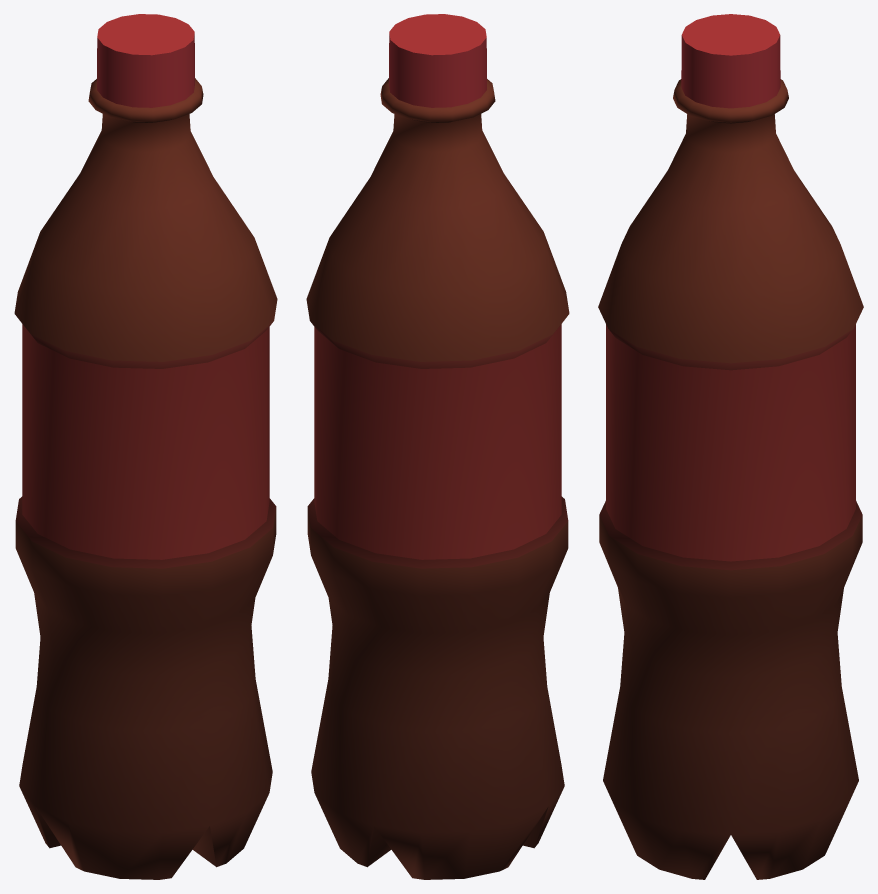
The model's file is consumables-drinks-sodabottle_v1.fbx.
3 views of the same model, side by side, from view 1: azimuth 30°, elevation 25°; view 2: azimuth 150°, elevation 25°; view 3: azimuth 270°, elevation 25° (orthographic).
Visible parts, largest first — view 1: SodaBottle.001; view 2: SodaBottle.001; view 3: SodaBottle.001.
Boxes of the visible parts, box(x1,y1,x2,y2) form: SodaBottle.001: box(14, 14, 277, 879); SodaBottle.001: box(306, 14, 569, 879); SodaBottle.001: box(598, 14, 863, 879).
Size of the model in its own units: 0.1188 by 0.3967 by 0.1188.
